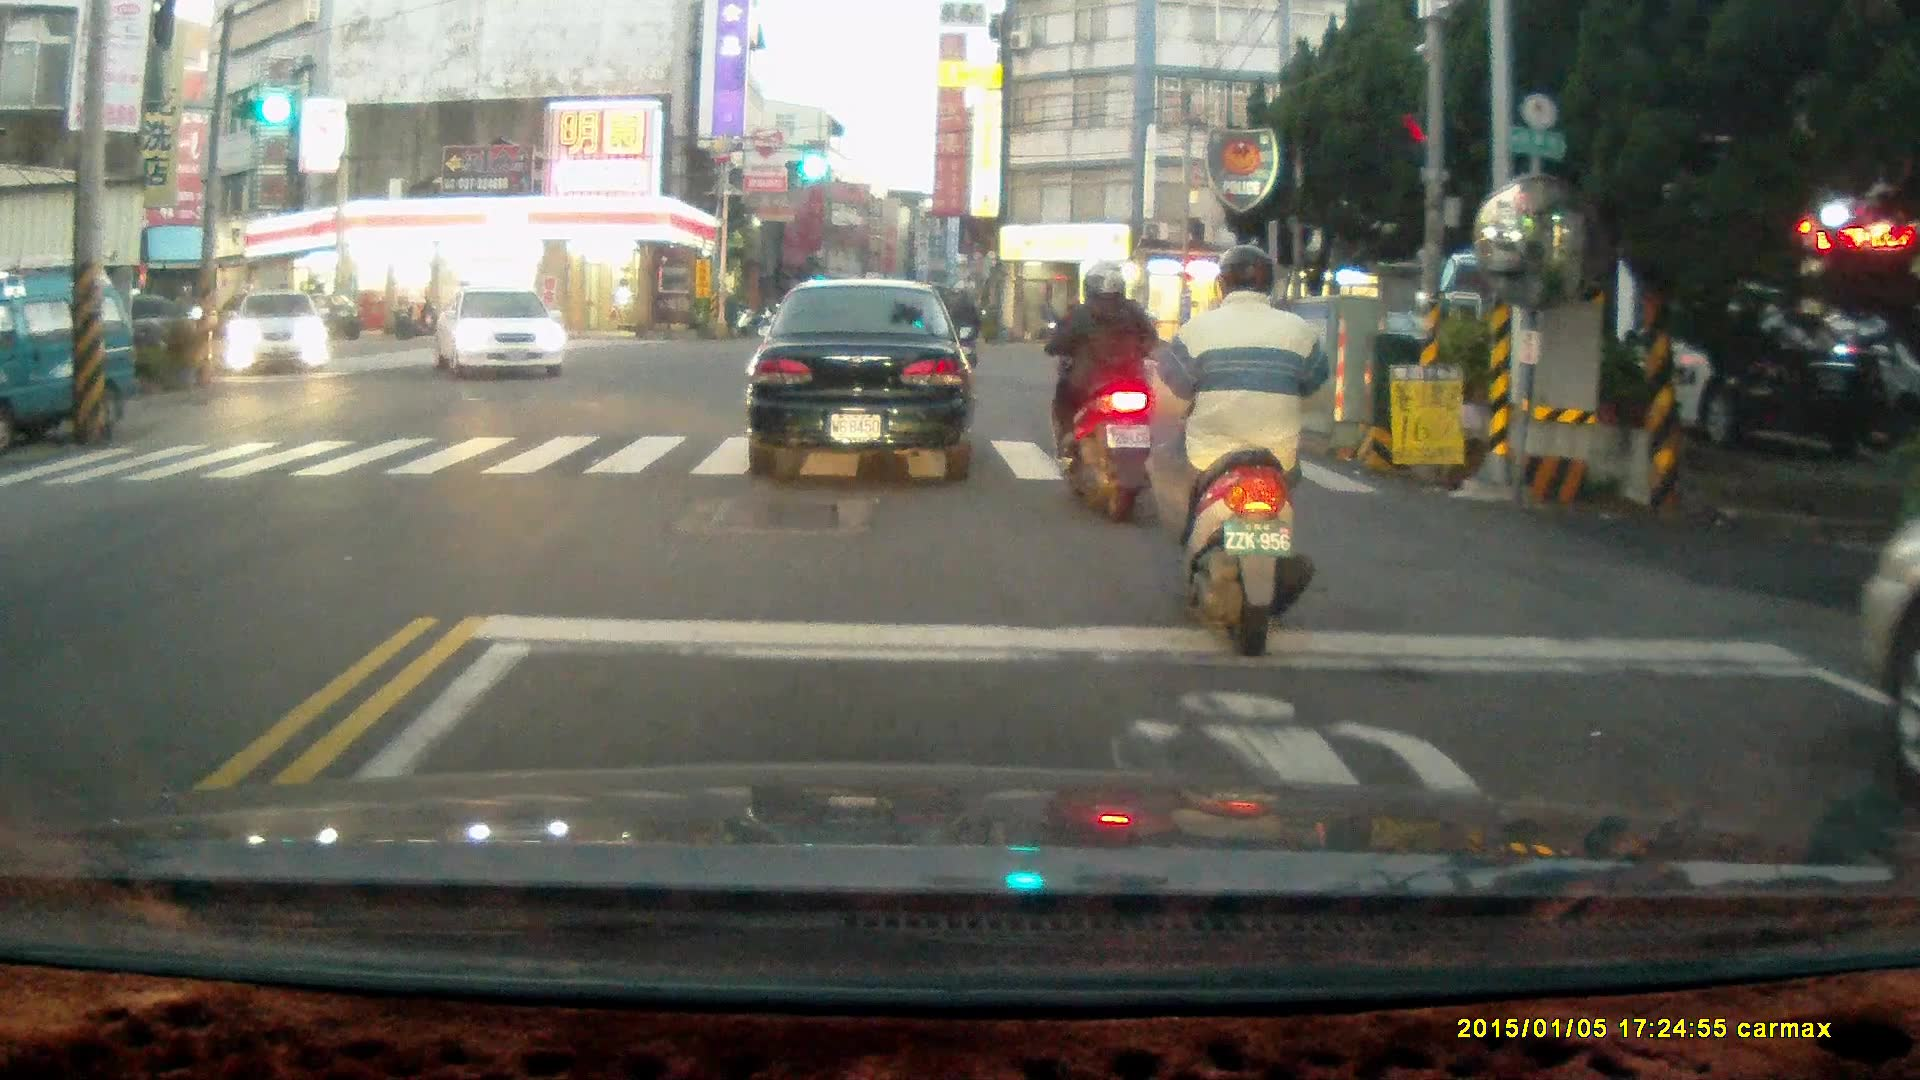rider: (1142, 235, 1334, 639), (1030, 259, 1166, 525), (939, 288, 982, 381)
vehicle: (1553, 278, 1893, 446), (746, 276, 975, 478), (1, 267, 142, 459), (1855, 486, 1920, 797), (435, 289, 569, 379), (225, 291, 333, 379)
